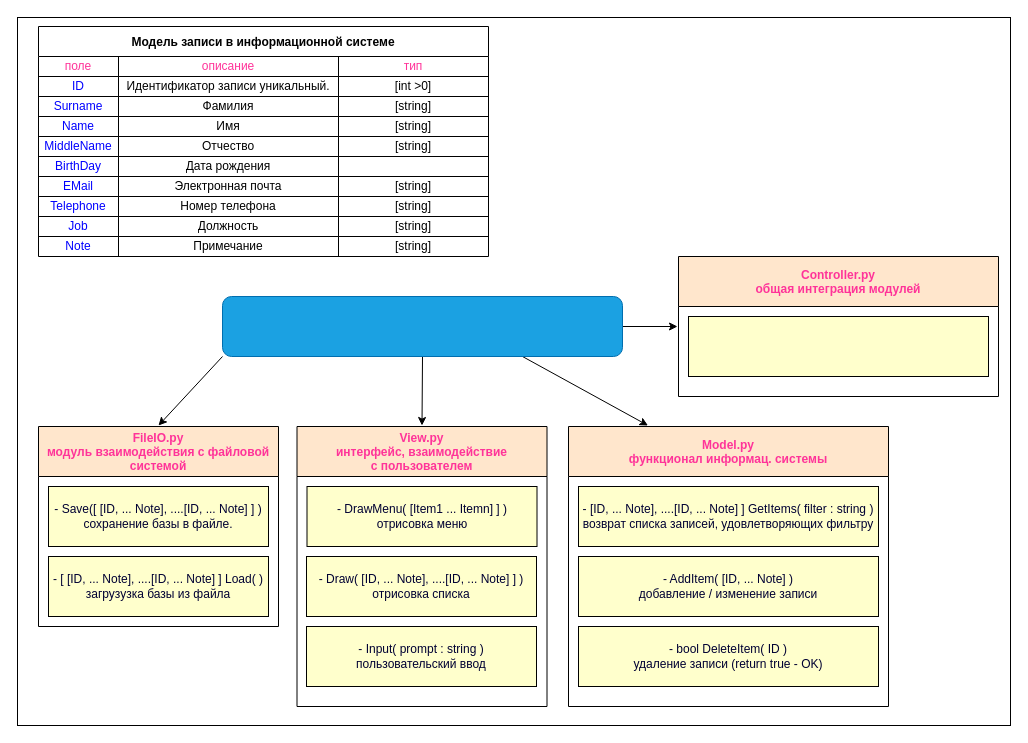
Some shapes in this 1028 by 743 pixel diagram are drawn without their labels. Here are the shapes that lost their labels. From the top down, the centre of each, then its label:
At (x=422, y=326): "Задача".
At (x=838, y=346): "- Start() циклический метод основного процесса".
